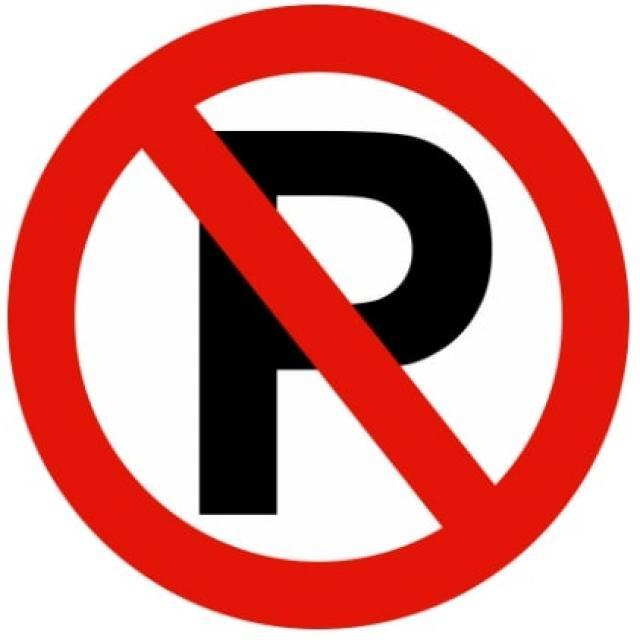Dilarang Parkir: (4, 1, 632, 631)
